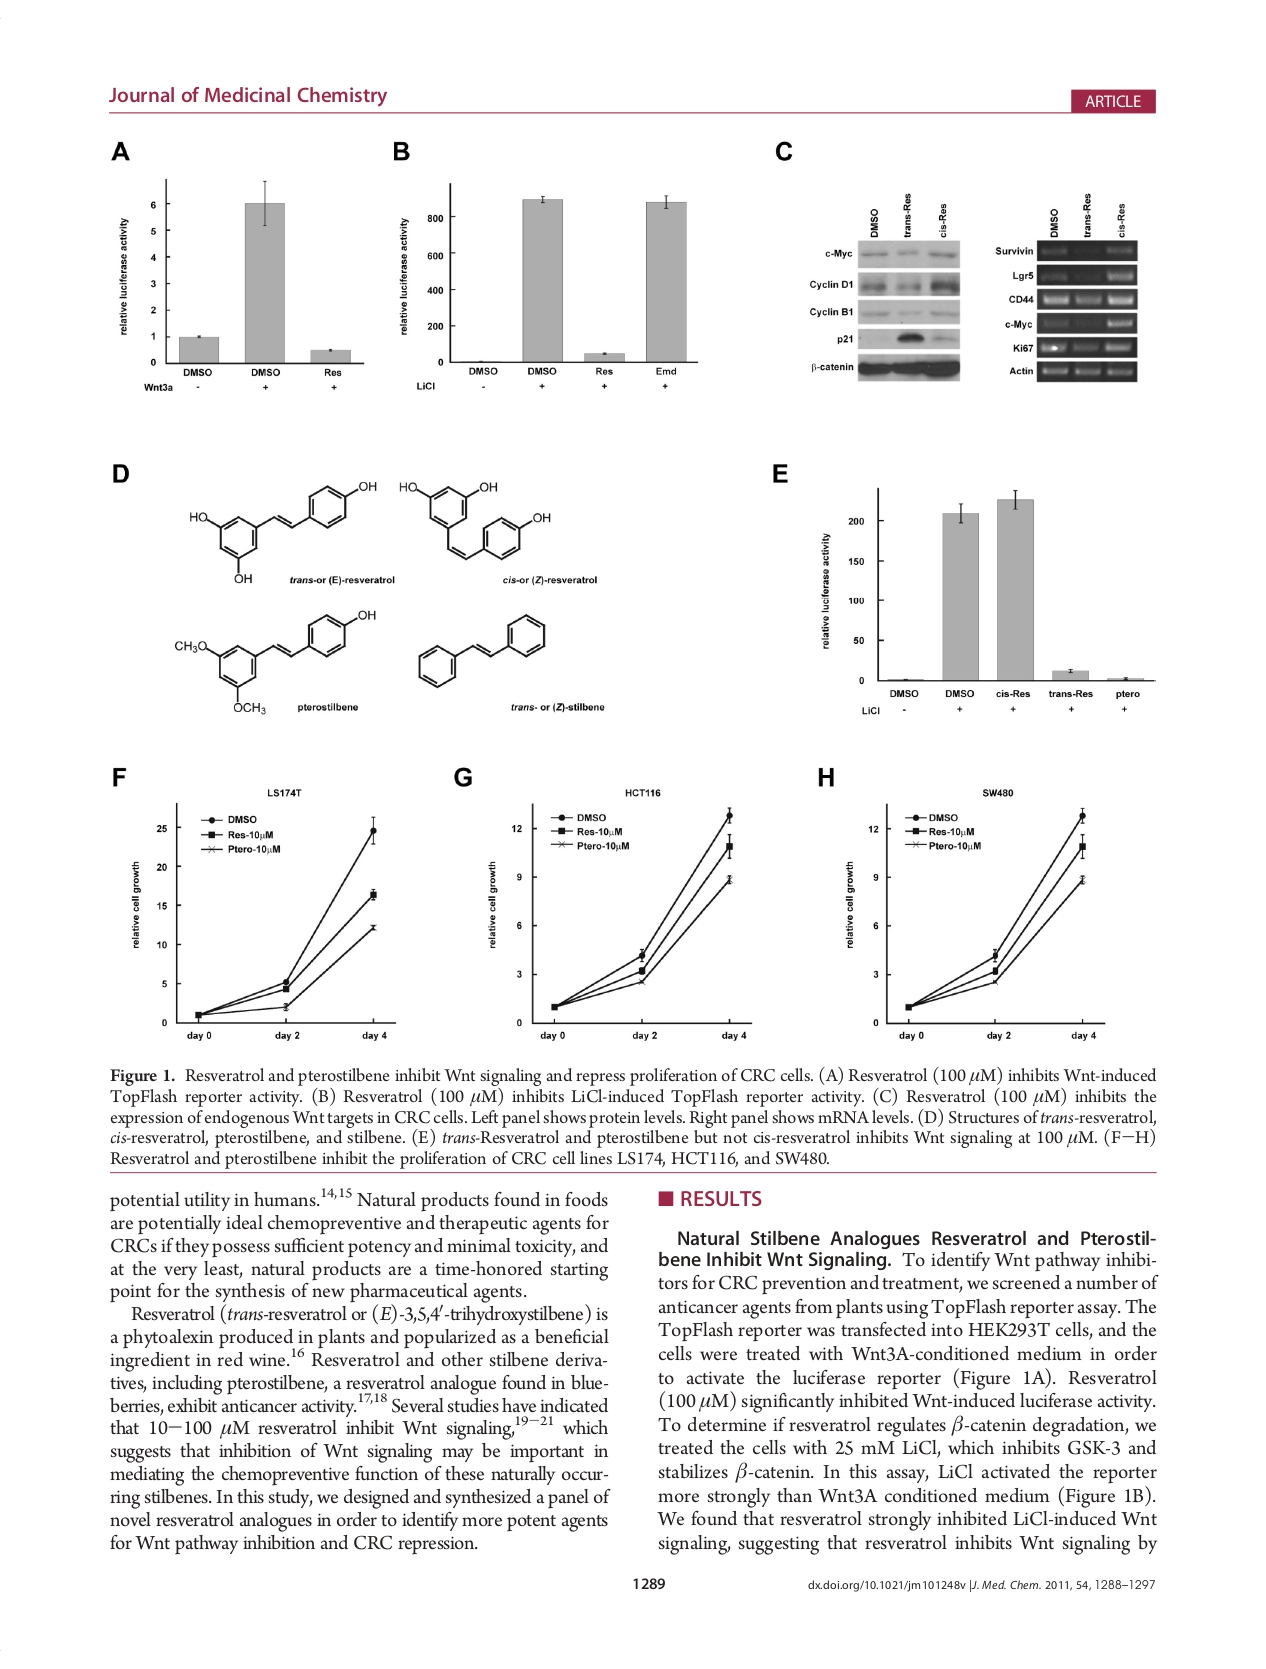exist_molecular: (172, 605, 382, 715), (185, 477, 379, 586), (398, 473, 555, 563), (410, 608, 556, 689)
